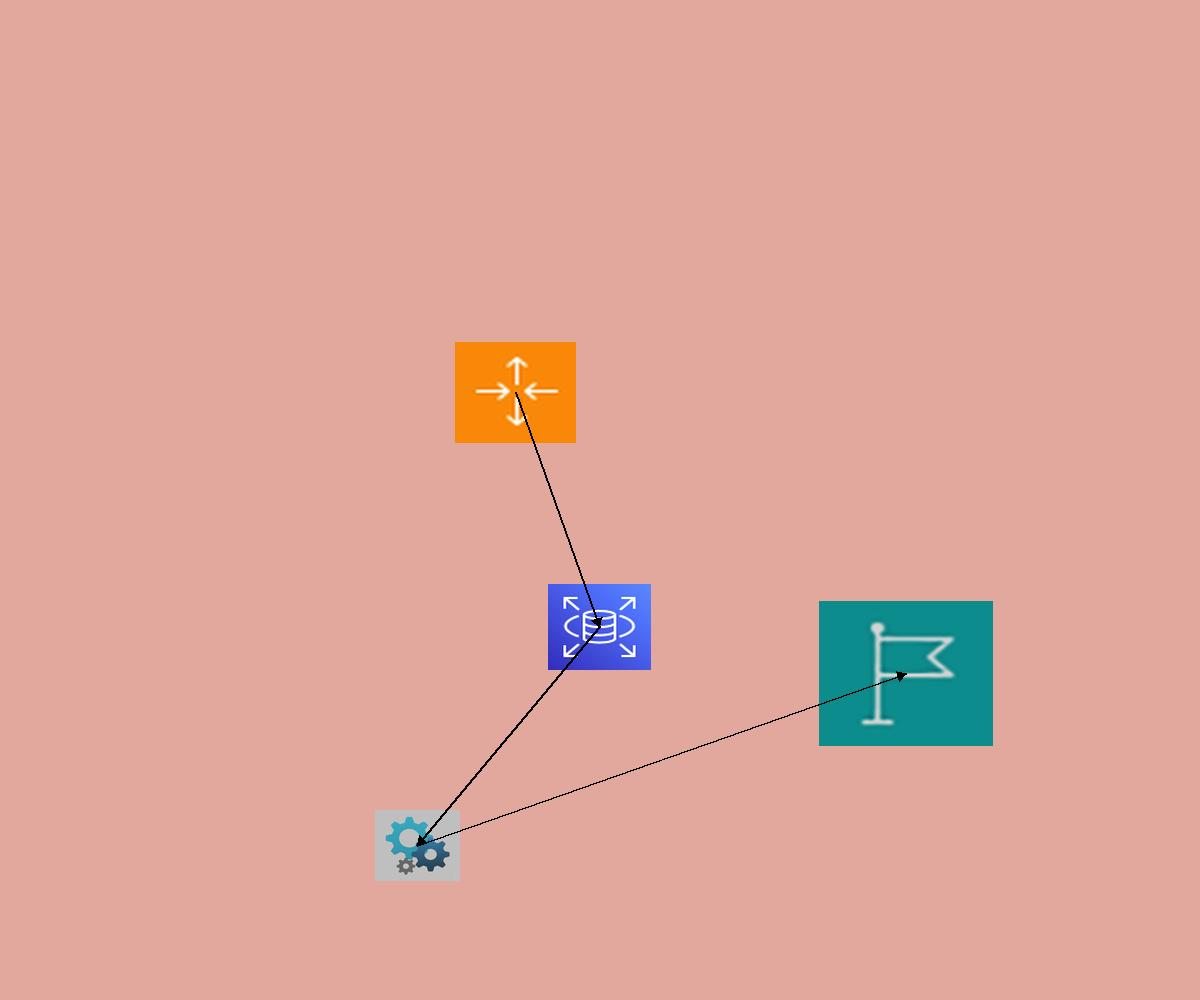AWS-RDS: (548, 584, 651, 670)
AWS-Region: (819, 601, 993, 746)
AWS-Scaling-group: (455, 342, 576, 443)
Azure_api: (375, 810, 460, 881)
